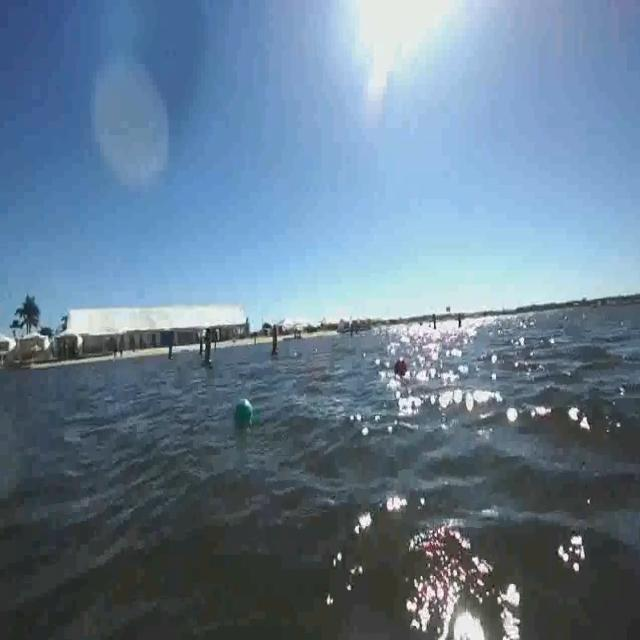green-buoy: (234, 402, 251, 426)
green-column-buoy: (202, 327, 215, 368)
red-buoy: (393, 357, 408, 377)
red-column-buoy: (270, 324, 280, 361)
